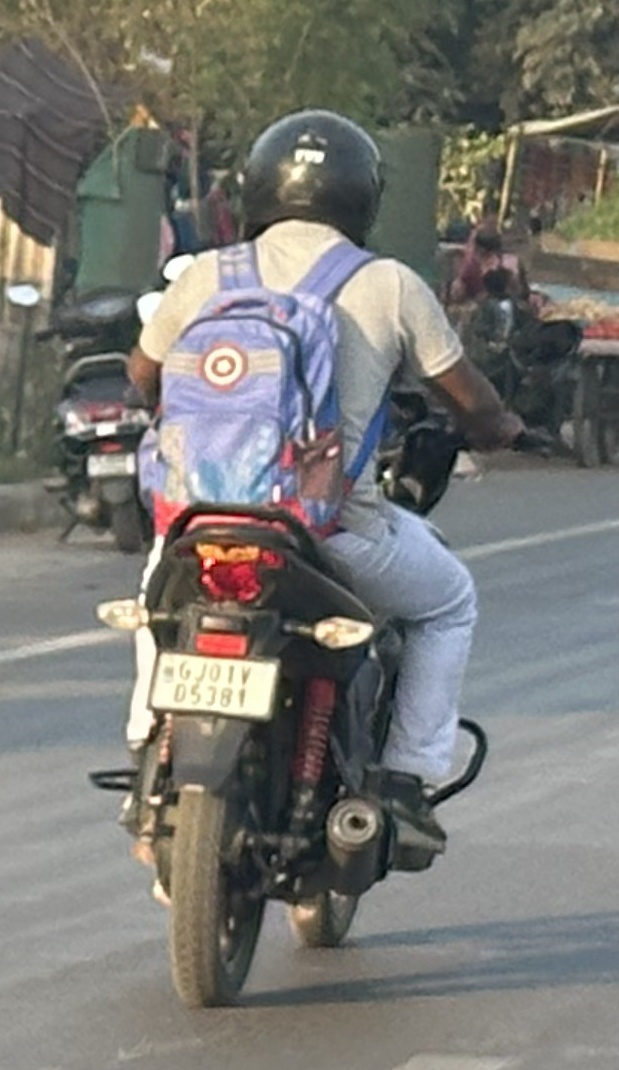BikeWithRider: (73, 95, 549, 1020)
Helmet: (224, 96, 400, 257)
